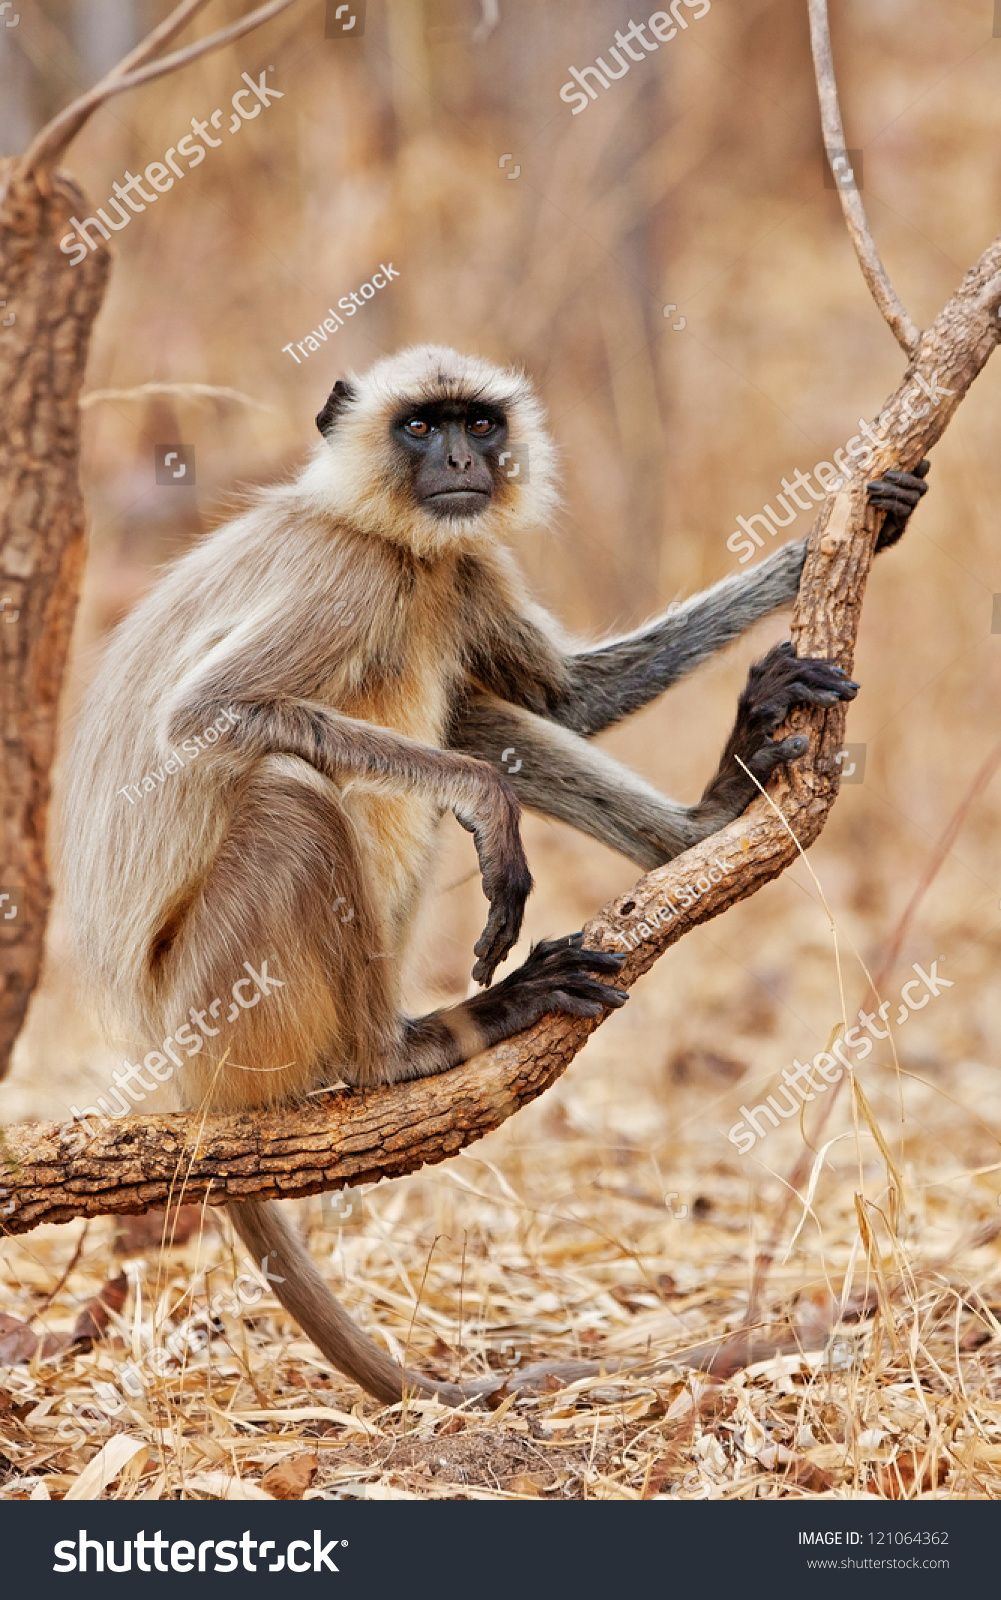monkey: (50, 335, 998, 1116)
